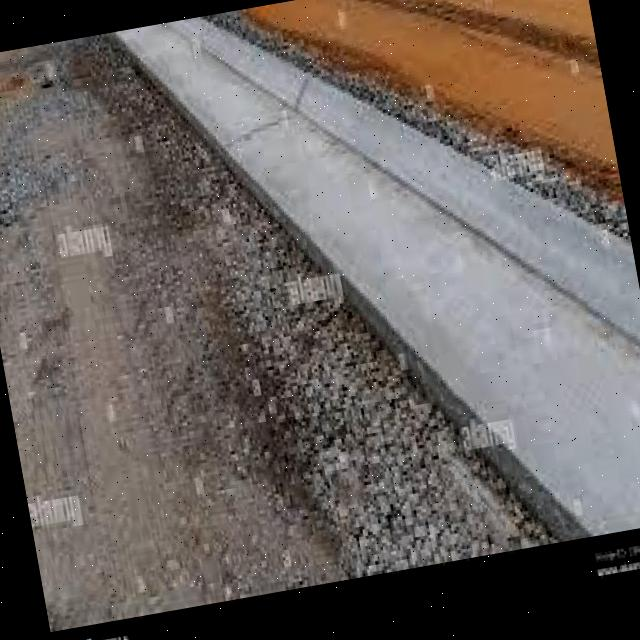curb: (254, 49, 522, 441), (123, 9, 292, 198)
